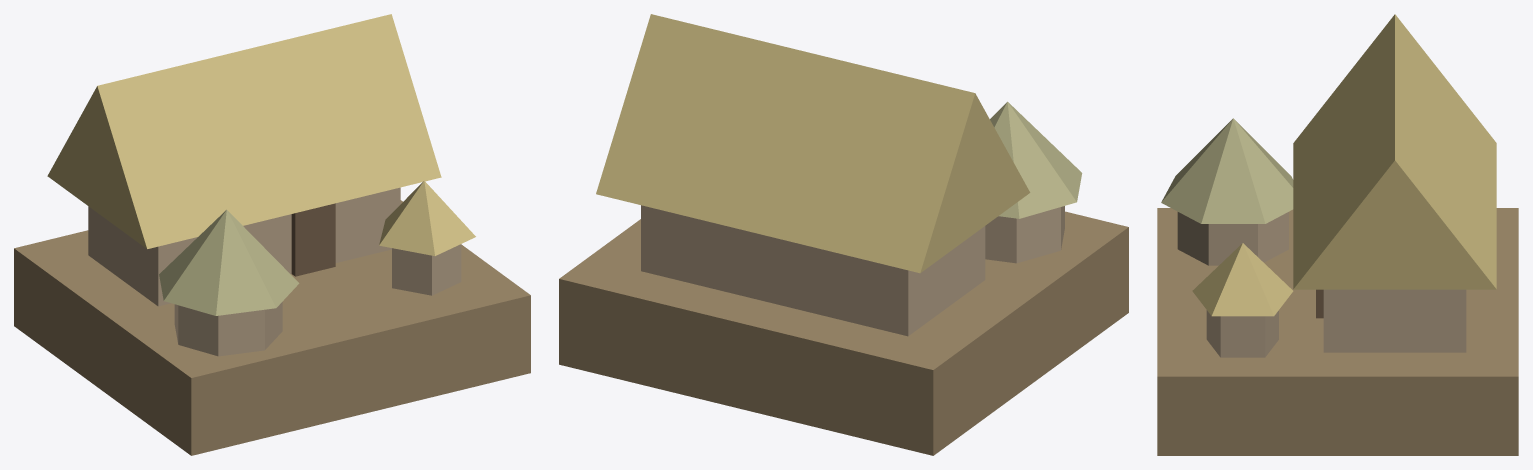
Rendered from house-ancient-2.glb.
3 views of the same model, side by side, from view 1: azimuth 30°, elevation 25°; view 2: azimuth 150°, elevation 25°; view 3: azimuth 270°, elevation 25° (orthographic). The views are drawn at different scales.
Parts seen in each view (by area): view 1: LOD0; view 2: LOD0; view 3: LOD0.
Part boxes in pixels (left/top/right/bottom): LOD0: left=14, top=14, right=530, bottom=455; LOD0: left=559, top=14, right=1128, bottom=455; LOD0: left=1157, top=14, right=1518, bottom=455.
Size of what is drawn, in the model's own units: 0.21 by 0.165 by 0.19.
